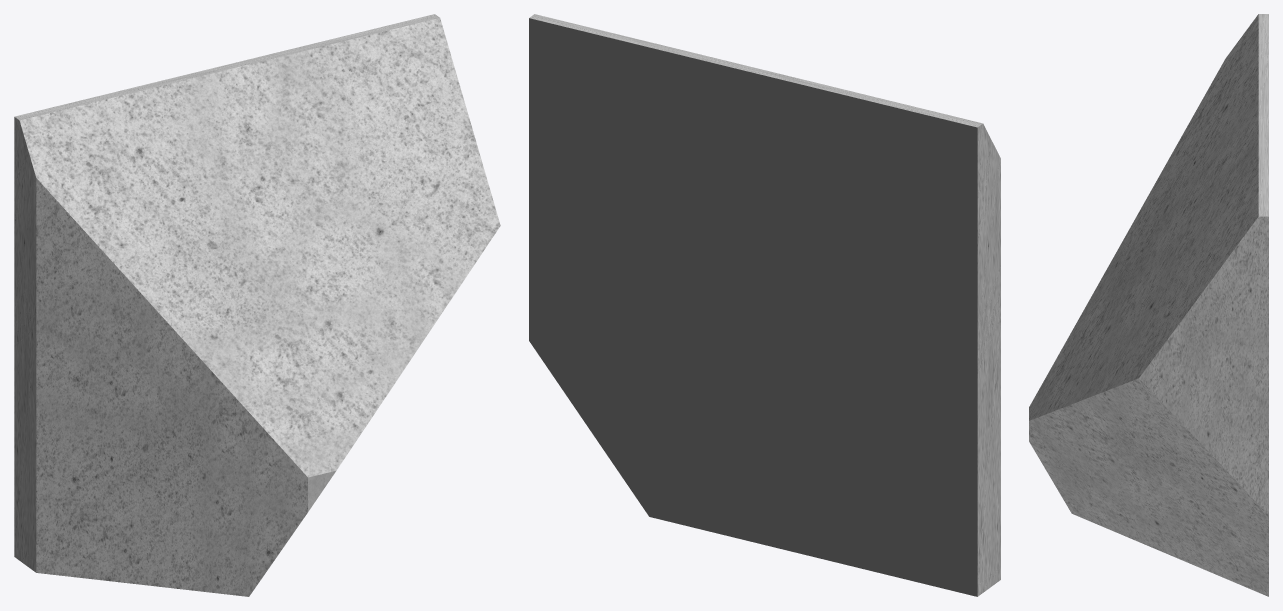
File: rock.obj
The picture shows the model from 3 angles, left to right: view 1: azimuth 30°, elevation 25°; view 2: azimuth 150°, elevation 25°; view 3: azimuth 270°, elevation 25°; orthographic projection. The views are drawn at different scales.
Visible parts, largest first — view 1: Object.1; view 2: Object.1; view 3: Object.1.
Part boxes in pixels (x1=…): Object.1: x1=14, y1=14, x2=500, y2=596; Object.1: x1=529, y1=14, x2=1000, y2=596; Object.1: x1=1029, y1=14, x2=1268, y2=596.
Size of the model in its own units: 128 by 128 by 64.04.
Materials: 1 (1 with a texture image).
